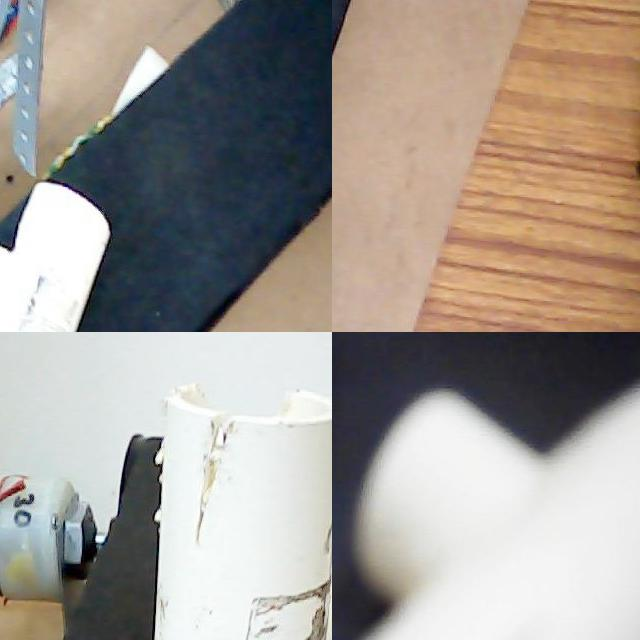Defective: (176, 369, 323, 444), (195, 410, 239, 562), (237, 581, 330, 640), (15, 265, 52, 332)
T Joint: (350, 384, 640, 640), (152, 385, 332, 640), (0, 182, 110, 332)
